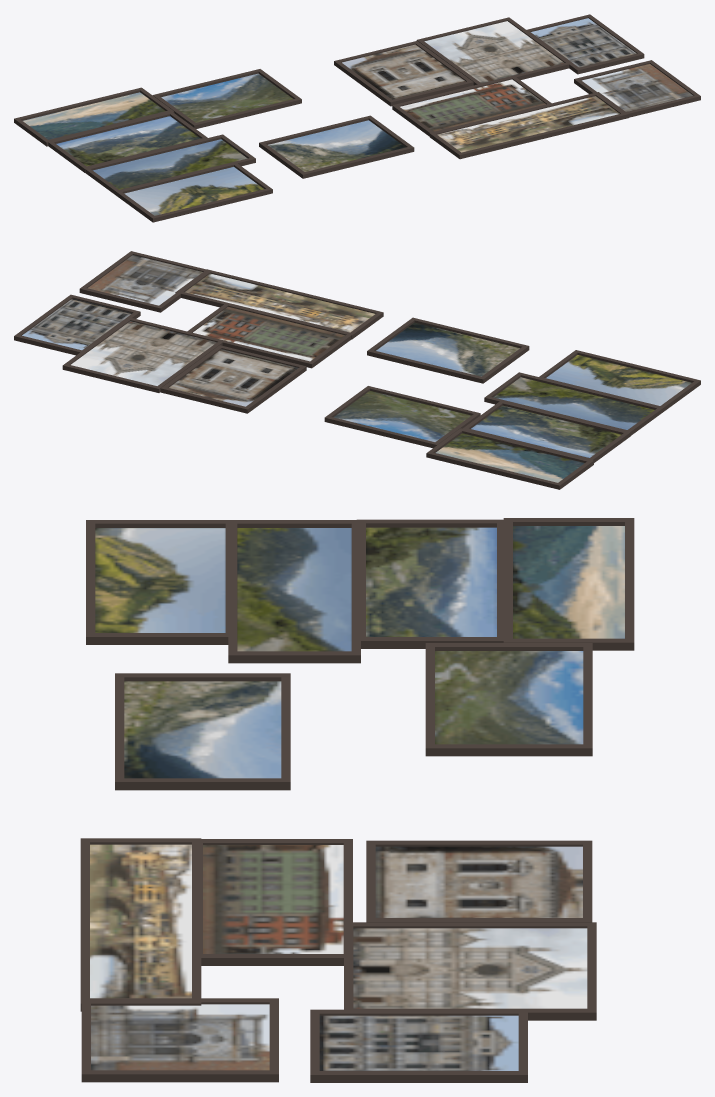
File: Paintings.fbx
The picture shows the model from 3 angles, top to bottom: view 1: azimuth 30°, elevation 25°; view 2: azimuth 150°, elevation 25°; view 3: azimuth 270°, elevation 25°; orthographic projection. The views are drawn at different scales.
Parts seen in each view (by area): view 1: Painting12, Painting08, Painting05, Painting07, Painting06, Painting02, Painting03, Painting11, Painting04, Painting01, Painting09, Painting10; view 2: Painting12, Painting05, Painting08, Painting07, Painting11, Painting02, Painting01, Painting04, Painting03, Painting06, Painting09, Painting10; view 3: Painting12, Painting05, Painting08, Painting11, Painting02, Painting04, Painting07, Painting03, Painting06, Painting01, Painting09, Painting10.
Boxes of the visible parts, bbox=[...] form: Painting12: bbox=[416, 17, 571, 85]; Painting08: bbox=[429, 92, 628, 159]; Painting05: bbox=[259, 115, 414, 178]; Painting07: bbox=[334, 41, 473, 106]; Painting06: bbox=[115, 162, 272, 222]; Painting02: bbox=[152, 69, 301, 128]; Painting03: bbox=[48, 111, 208, 172]; Painting11: bbox=[392, 75, 552, 136]; Painting04: bbox=[85, 134, 255, 194]; Painting01: bbox=[14, 87, 174, 146]; Painting09: bbox=[574, 60, 700, 117]; Painting10: bbox=[523, 14, 644, 74]; Painting12: bbox=[62, 317, 222, 392]; Painting05: bbox=[367, 317, 529, 383]; Painting08: bbox=[175, 269, 383, 339]; Painting07: bbox=[160, 345, 306, 413]; Painting11: bbox=[185, 304, 352, 368]; Painting02: bbox=[324, 386, 480, 448]; Painting01: bbox=[426, 428, 593, 489]; Painting04: bbox=[484, 372, 663, 435]; Painting03: bbox=[462, 400, 630, 462]; Painting06: bbox=[539, 350, 700, 412]; Painting09: bbox=[79, 251, 209, 312]; Painting10: bbox=[14, 294, 140, 355]; Painting12: bbox=[344, 922, 596, 1020]; Painting05: bbox=[115, 673, 290, 790]; Painting08: bbox=[80, 838, 201, 1011]; Painting11: bbox=[193, 839, 352, 965]; Painting02: bbox=[425, 643, 592, 756]; Painting04: bbox=[228, 520, 360, 663]; Painting07: bbox=[366, 840, 592, 922]; Painting03: bbox=[356, 519, 506, 648]; Painting06: bbox=[86, 520, 234, 644]; Painting01: bbox=[503, 518, 634, 650]; Painting09: bbox=[81, 998, 278, 1082]; Painting10: bbox=[310, 1009, 527, 1082].
Size of the model in its own units: 670 by 16.68 by 292.
